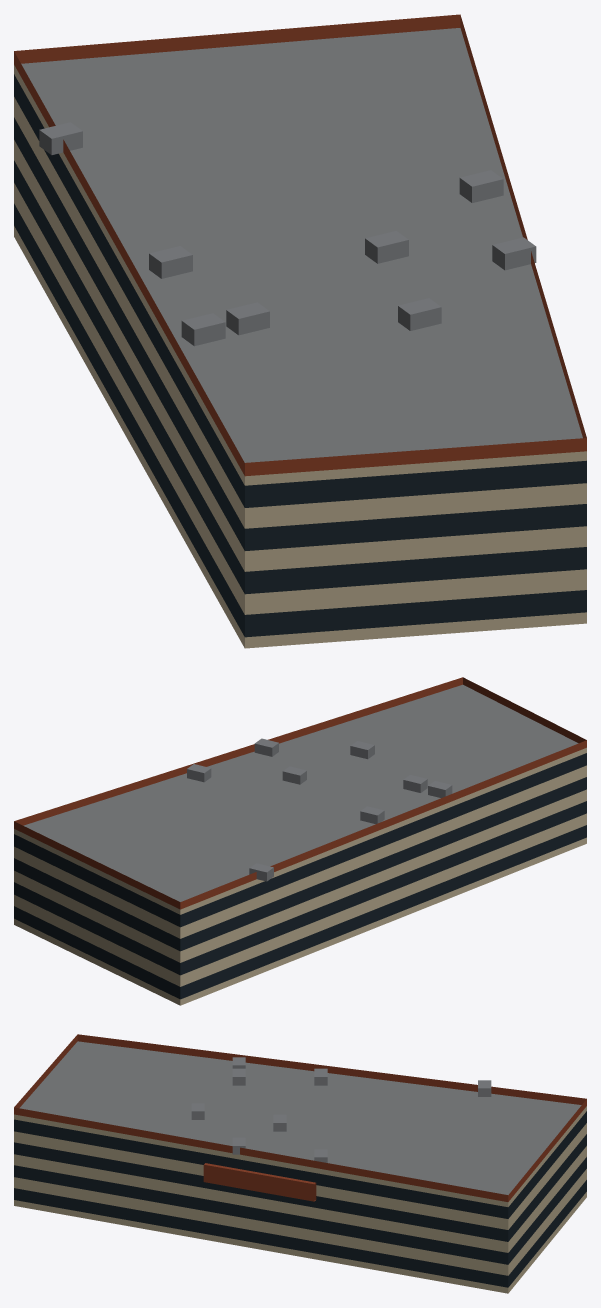
Rendered from pasar-bawah-lod0.glb.
3 renders of one model, top to bottom at view 1: azimuth 30°, elevation 25°; view 2: azimuth 150°, elevation 25°; view 3: azimuth 270°, elevation 25°, orthographic. The views are drawn at different scales.
Visible parts, largest first — view 1: pasar-bawah_LOD0; view 2: pasar-bawah_LOD0; view 3: pasar-bawah_LOD0.
Part boxes in pixels (left/top/right/bottom): pasar-bawah_LOD0: left=14, top=14, right=586, bottom=648; pasar-bawah_LOD0: left=14, top=677, right=586, bottom=1005; pasar-bawah_LOD0: left=14, top=1034, right=586, bottom=1293.
Size of the model in its own units: 63.4 by 18.4 by 95.4.
